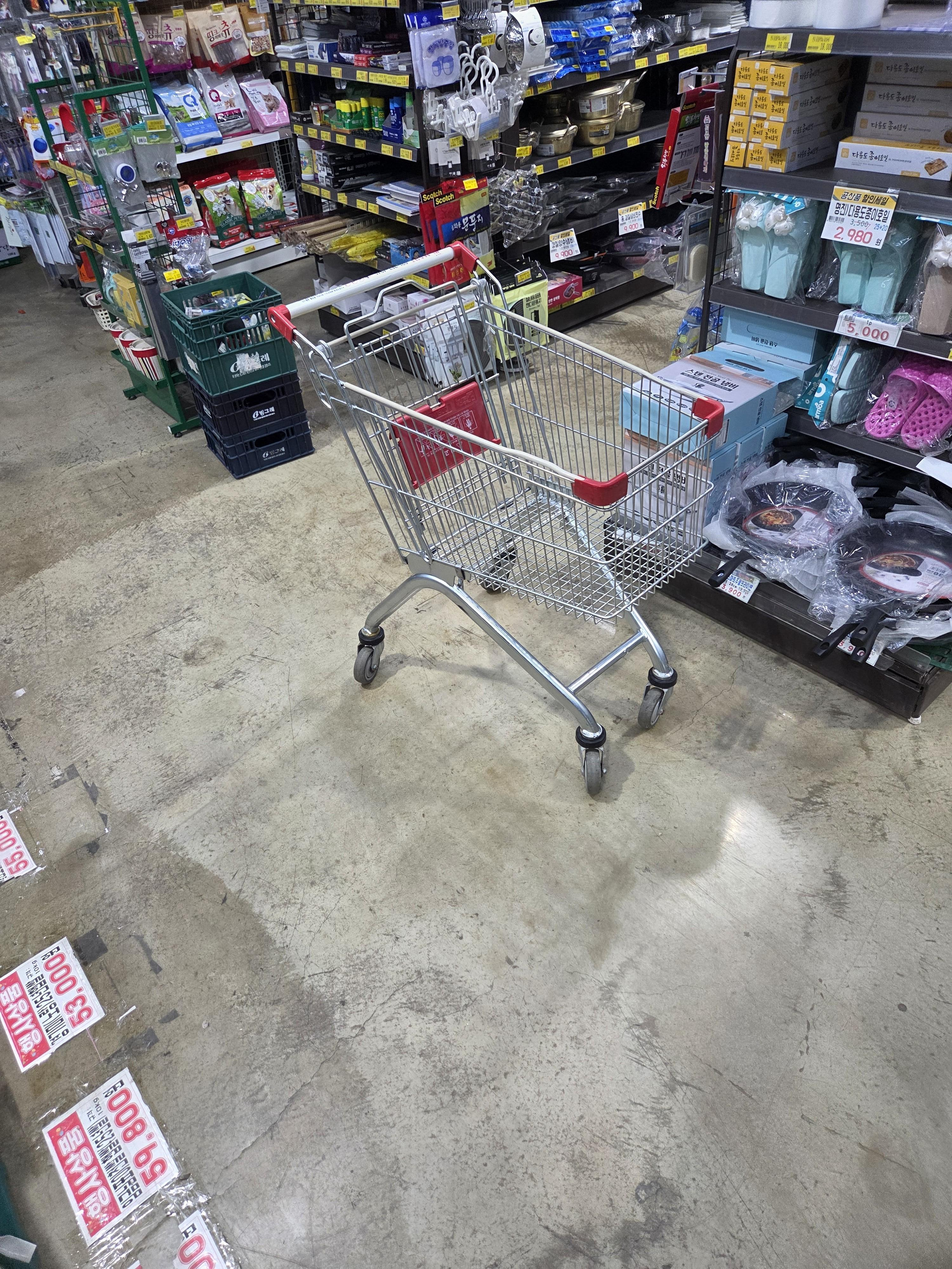empty_cart: (264, 240, 737, 789)
